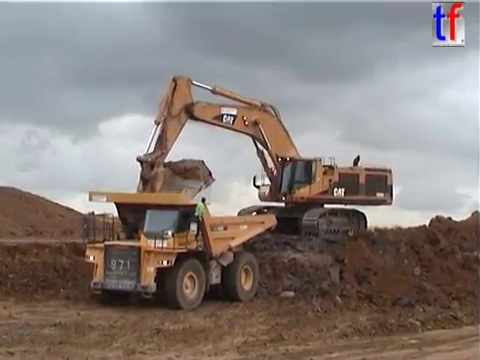excavator: (133, 73, 396, 245)
truck: (79, 188, 278, 311)
worker: (192, 195, 211, 242)
